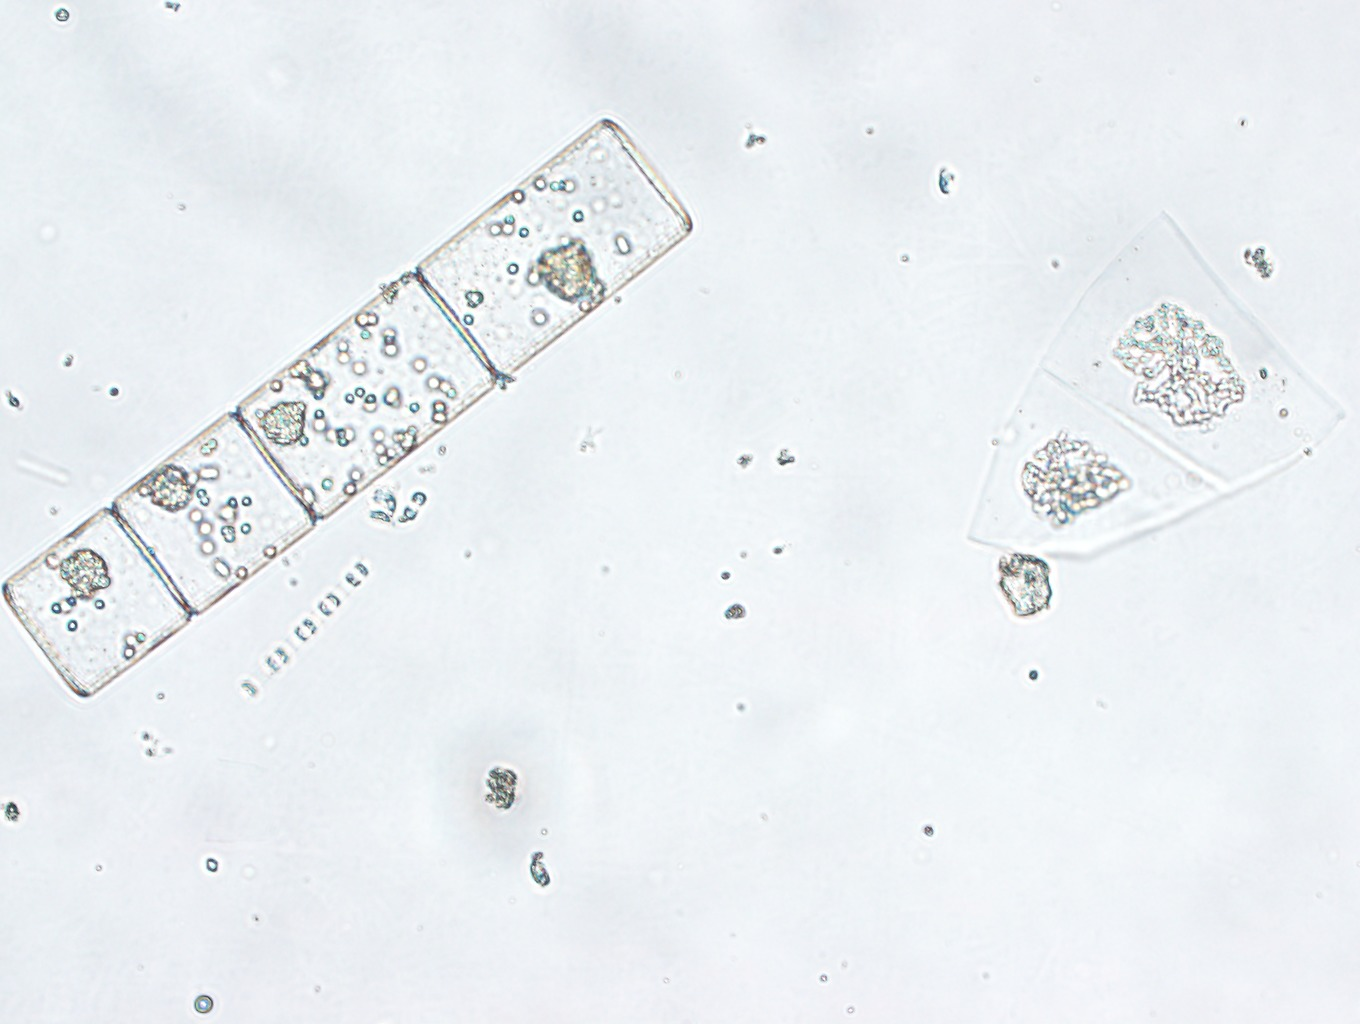guinardia flaccida: (1, 108, 705, 703)
helicotheca: (964, 210, 1349, 566)
